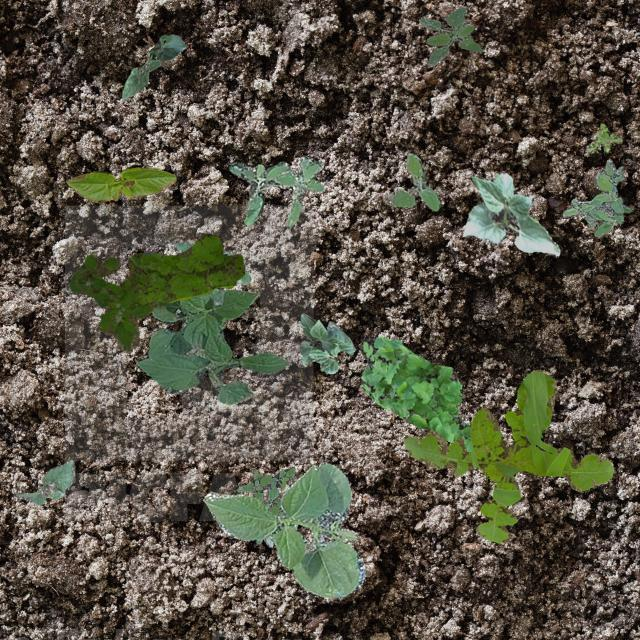crop: (202, 460, 364, 596), (136, 288, 288, 404), (462, 170, 558, 256), (120, 34, 184, 98), (64, 166, 174, 202), (298, 312, 354, 372), (16, 458, 74, 504)
weed: (402, 371, 612, 544), (359, 336, 474, 452), (68, 252, 166, 352), (138, 232, 244, 304), (228, 154, 322, 228), (562, 158, 630, 236), (236, 466, 296, 546), (174, 242, 250, 304), (418, 5, 482, 66), (384, 152, 439, 210), (586, 122, 622, 150)
